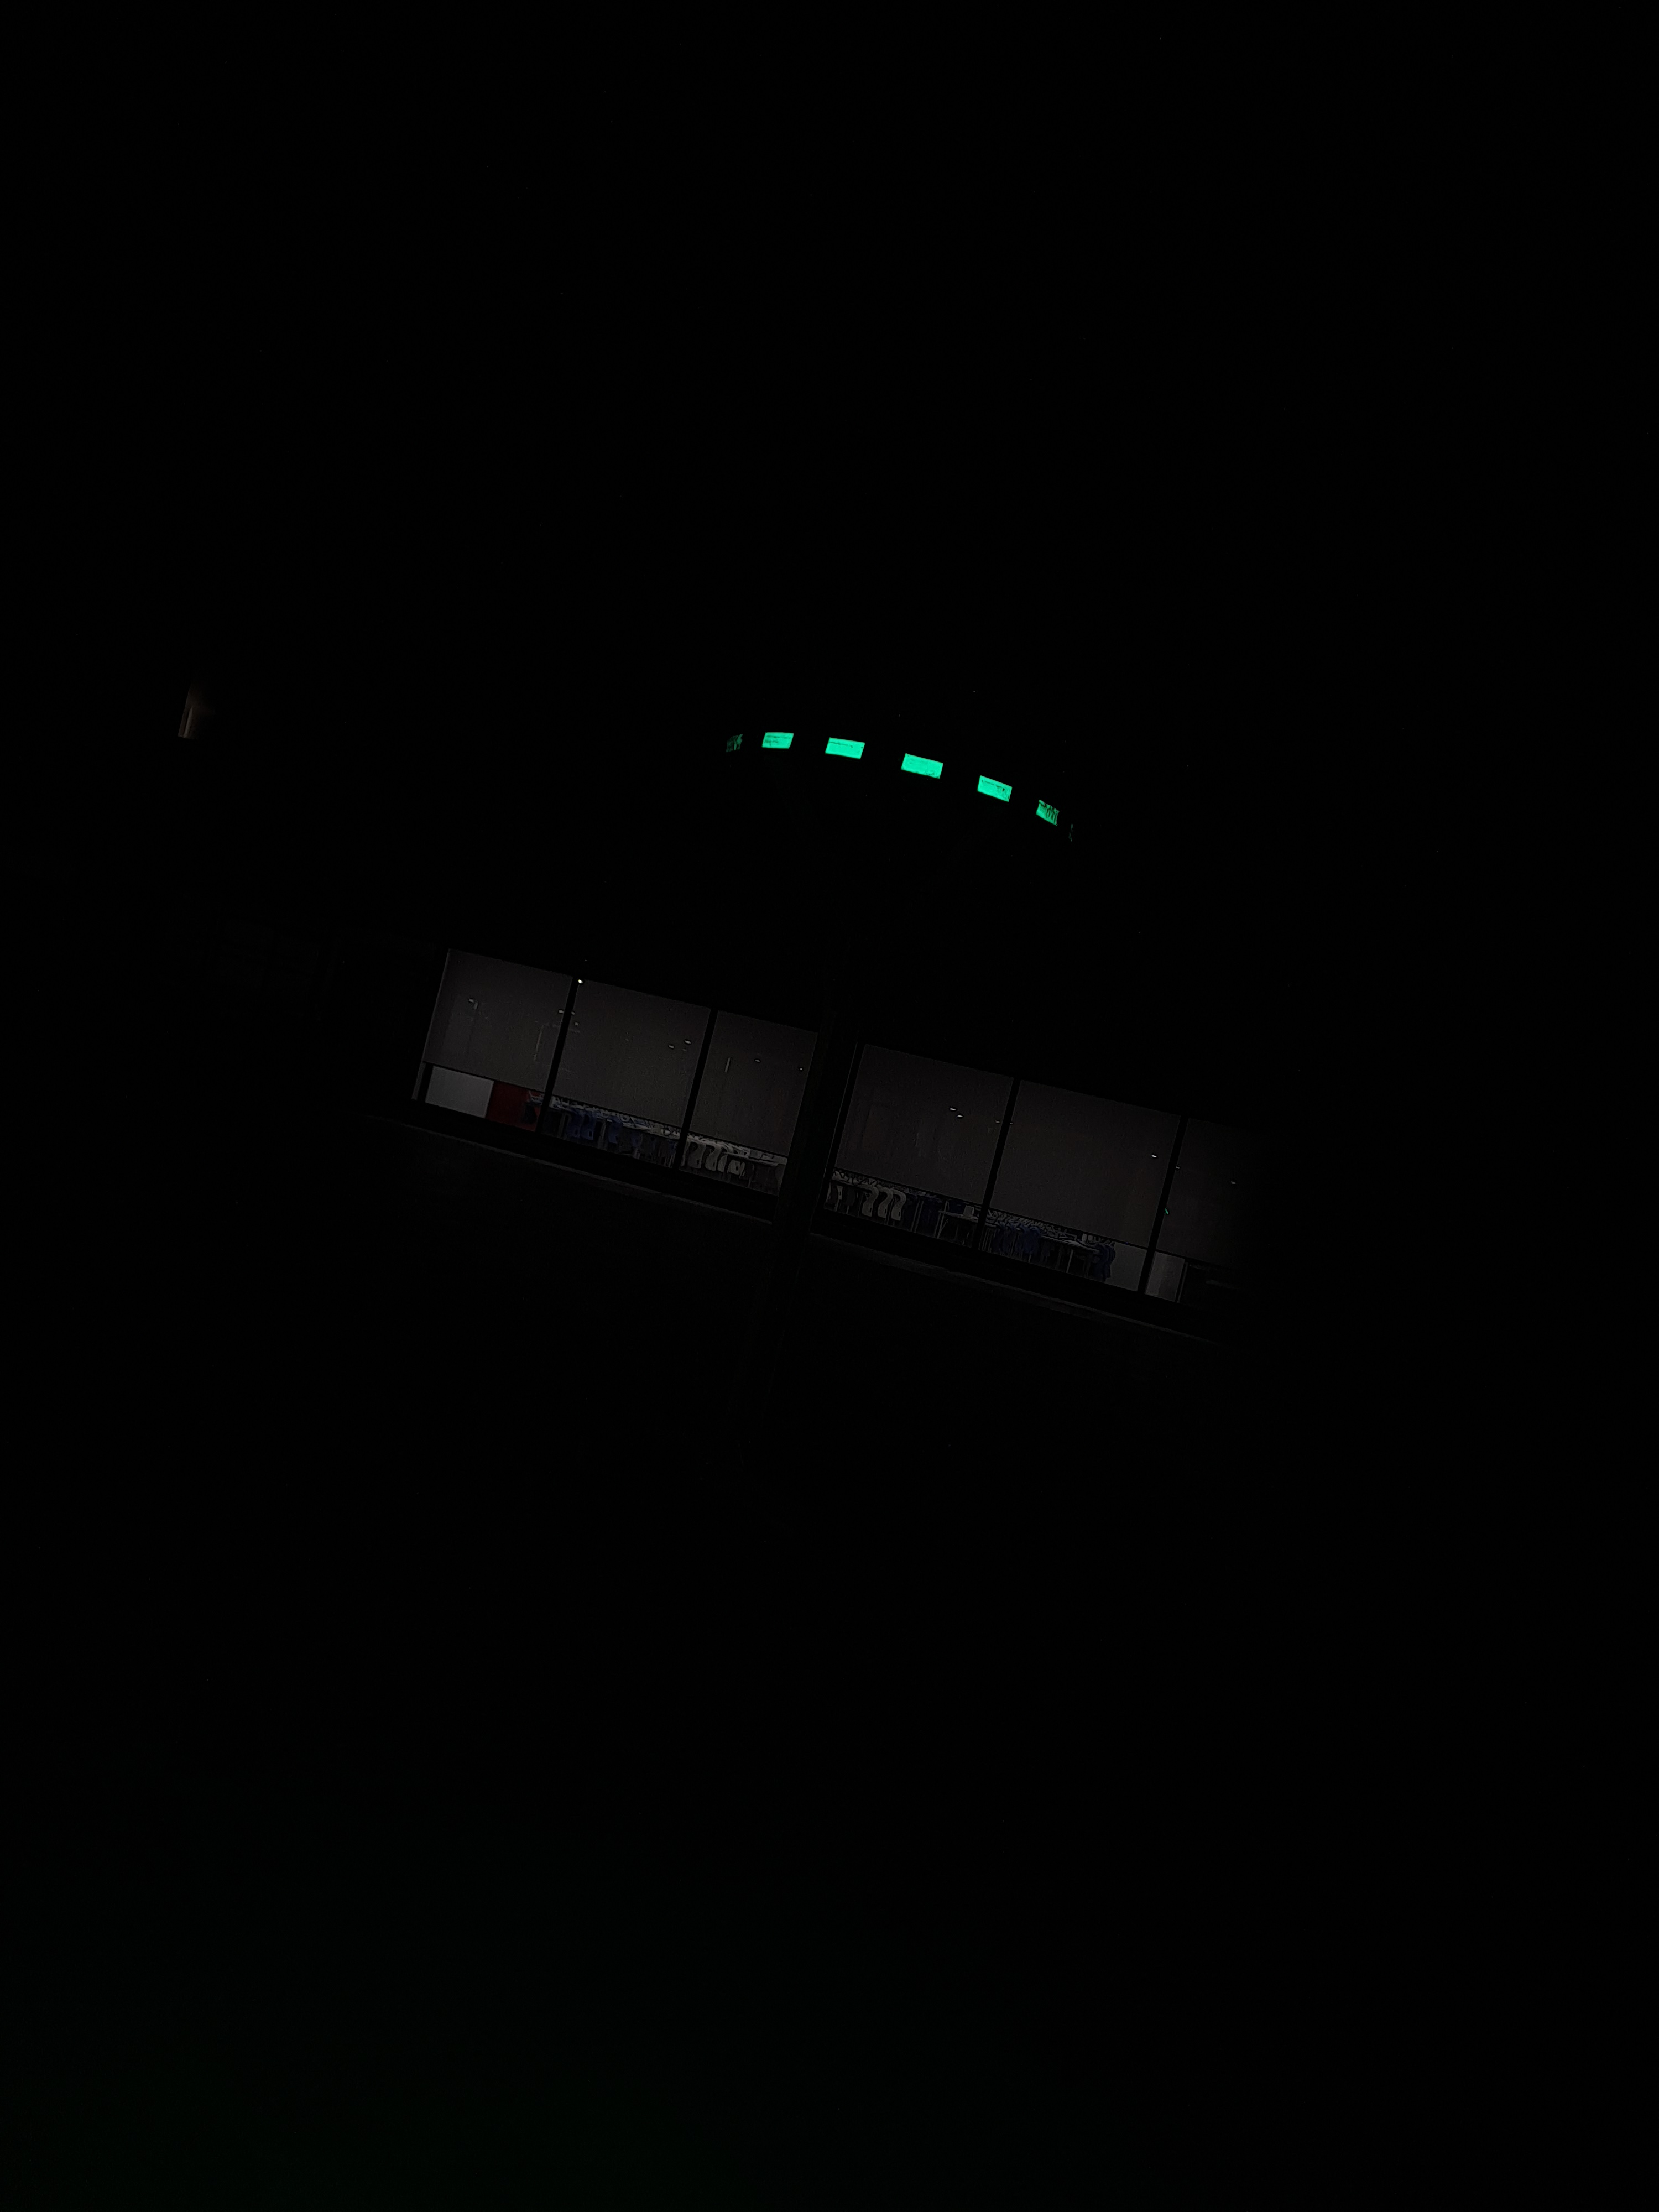hoop: (758, 711, 1066, 833)
